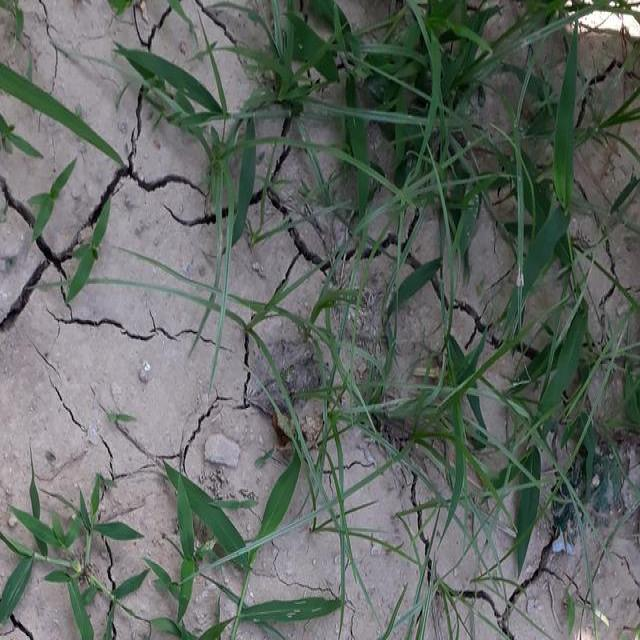weed: (248, 2, 582, 290), (396, 304, 589, 542)
